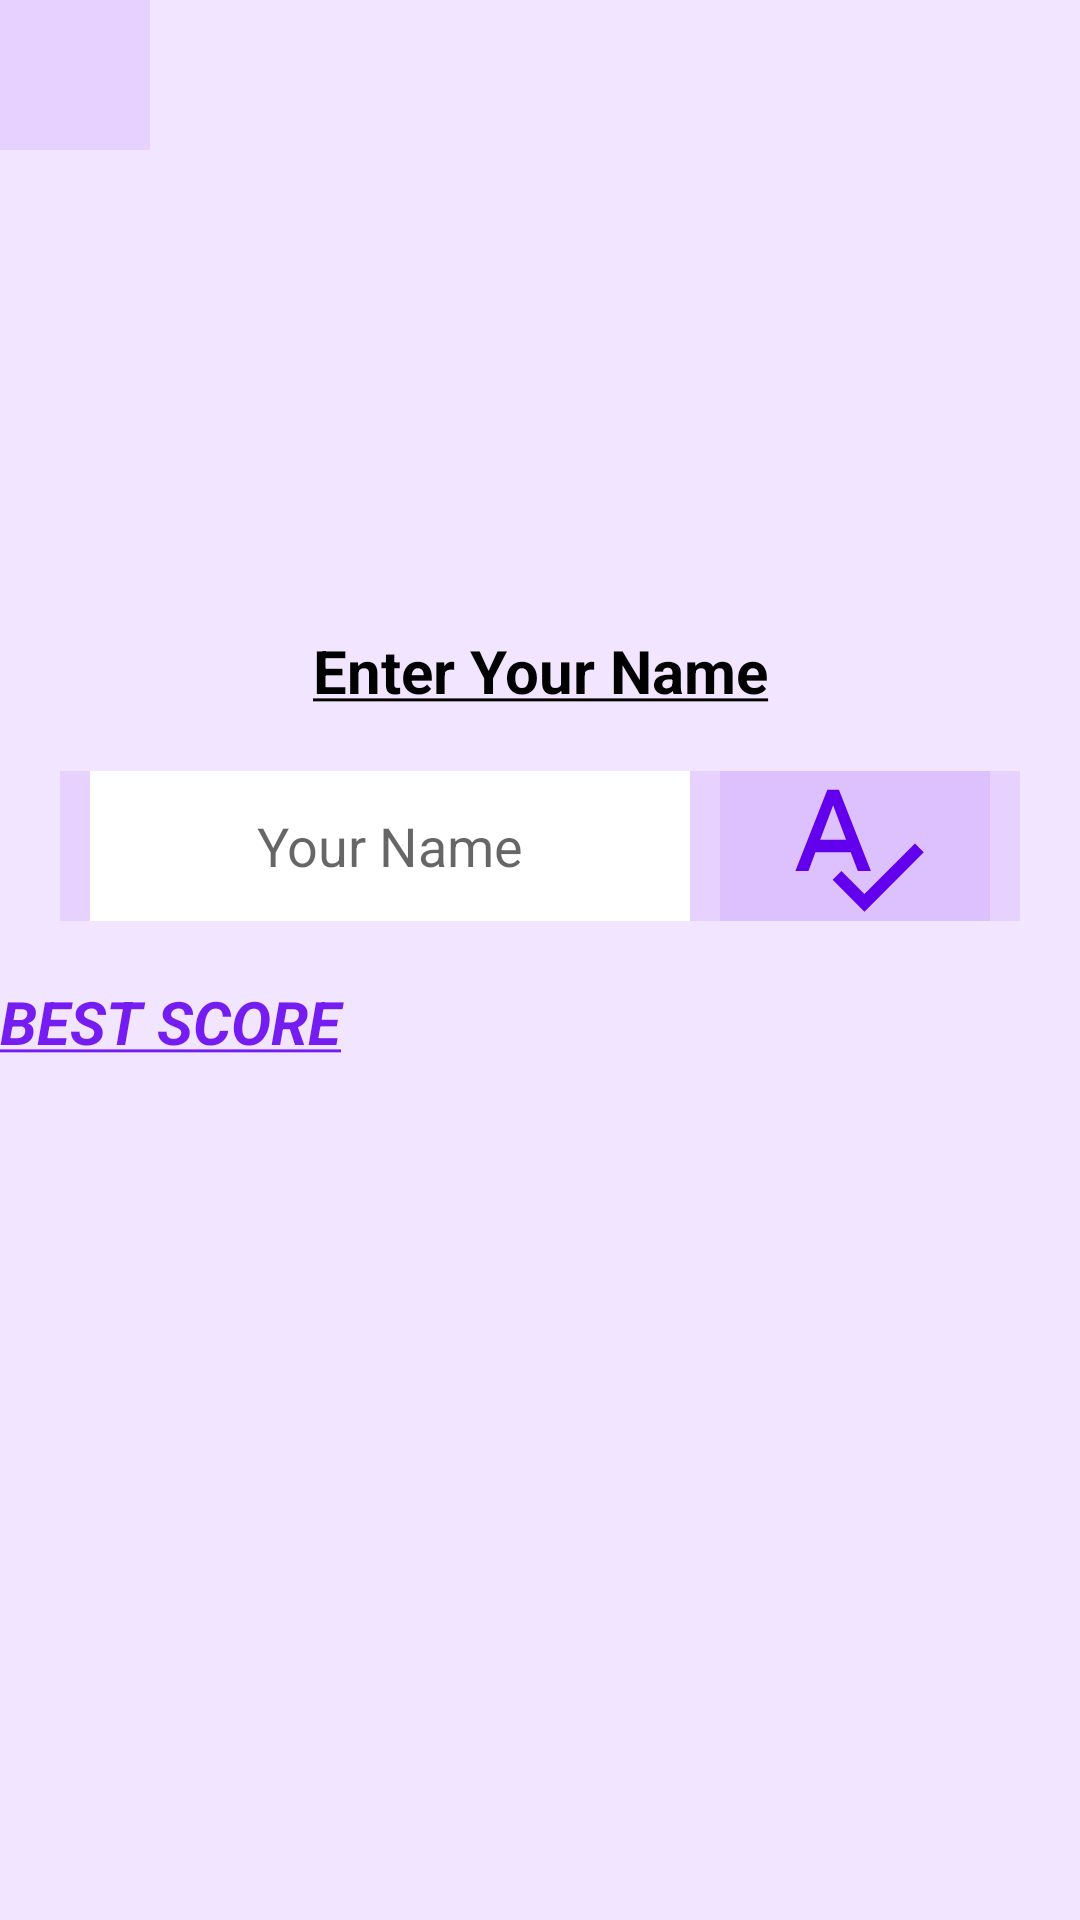

Named icons in this screenshot (1080 x 1920) and their centers, (x=x, y=y):
spellcheck: (x=855, y=846)
